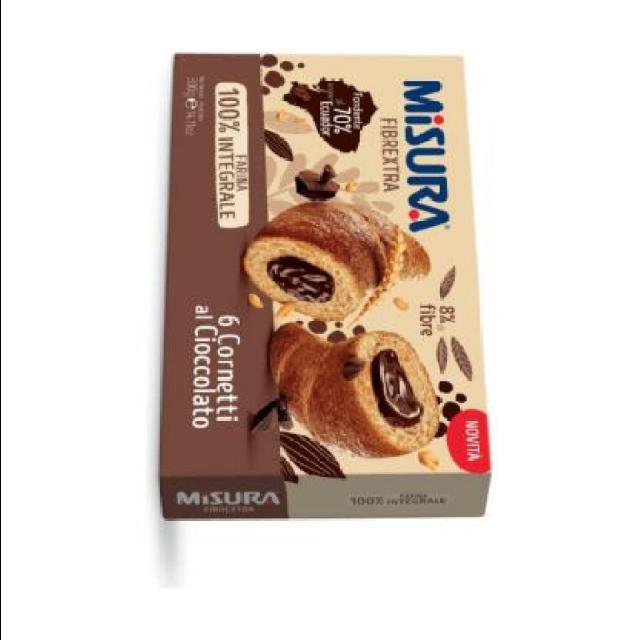Merendine: (150, 52, 496, 530)
